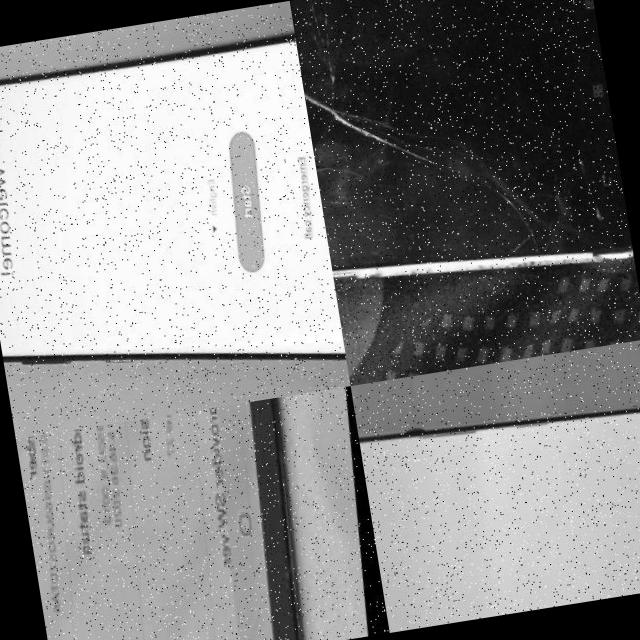dead pixel: (392, 412, 442, 454)
screen crack: (295, 8, 547, 242)
